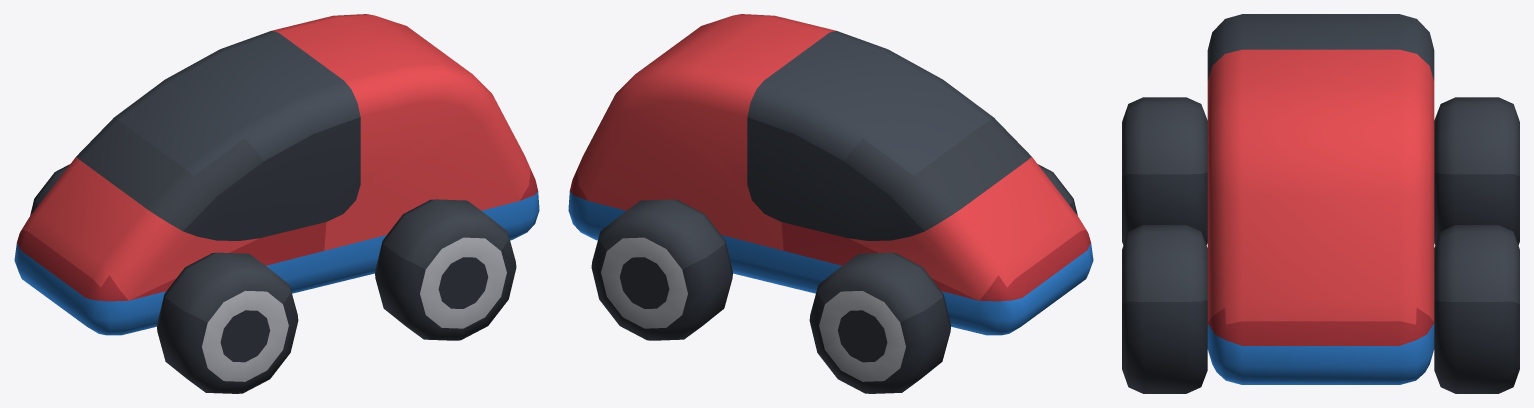
The model's file is brinquedo_carrinho_pacote.glb.
The picture shows the model from 3 angles, left to right: view 1: azimuth 30°, elevation 25°; view 2: azimuth 150°, elevation 25°; view 3: azimuth 270°, elevation 25°; orthographic projection. The views are drawn at different scales.
Visible parts, largest first — view 1: brinquedo_carrinho_pacote; view 2: brinquedo_carrinho_pacote; view 3: brinquedo_carrinho_pacote.
Part boxes in pixels (x1=…): brinquedo_carrinho_pacote: x1=14, y1=14, x2=539, y2=393; brinquedo_carrinho_pacote: x1=568, y1=14, x2=1093, y2=393; brinquedo_carrinho_pacote: x1=1122, y1=14, x2=1519, y2=393.
Size of the model in its own units: 0.2352 by 0.1224 by 0.149.
Materials: 1 (1 with a texture image).
